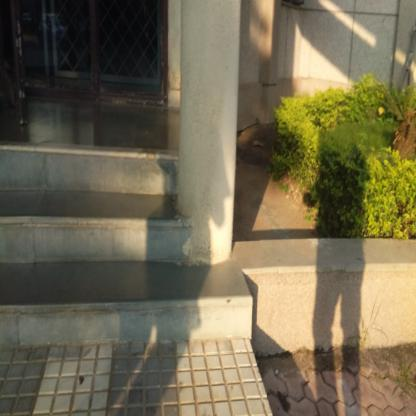stairs: (3, 142, 175, 355)
